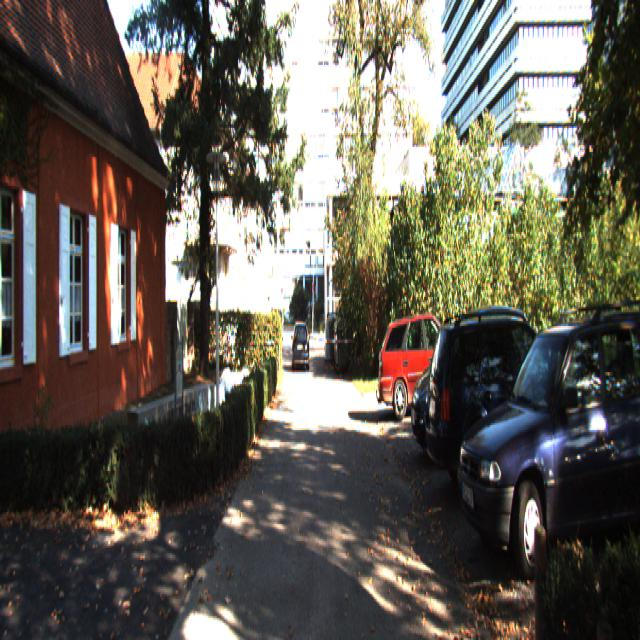Car: (448, 303, 640, 590), (424, 304, 610, 503), (409, 303, 543, 470), (378, 309, 480, 421), (292, 321, 310, 374)
